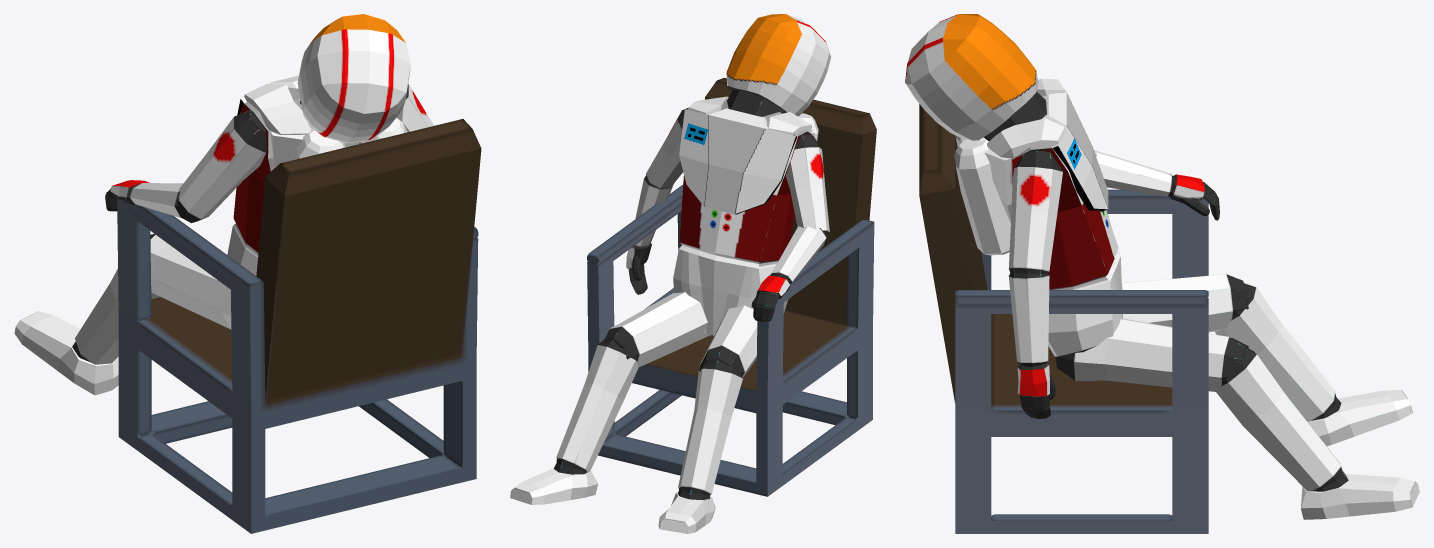
The model's file is Dead Spacesuit.obj.
3 views of the same model, side by side, from view 1: azimuth 30°, elevation 25°; view 2: azimuth 150°, elevation 25°; view 3: azimuth 270°, elevation 25° (orthographic). The views are drawn at different scales.
Visible parts, largest first — view 1: cuboid, Head, cylinder, Left Upper Leg, Left Upper Arm, Left Foot, Torso, Left Lower Leg, sphere, Left Lower Arm, Pelvis, Right Upper Arm; view 2: cuboid, cylinder, Head, Torso, Right Lower Leg, Pelvis, Left Lower Leg, Right Upper Leg, sphere, Left Upper Arm, Right Foot, Left Upper Leg (+7 smaller); view 3: cuboid, Head, cylinder, Right Lower Leg, Right Upper Leg, Torso, Left Lower Leg, Right Upper Arm, sphere, Right Foot, Left Foot, Pelvis (+6 smaller).
Boxes of the visible parts, x1,y1,x2,y2 form: cuboid: (117,119,481,533); Head: (297,14,410,143); cylinder: (237,75,407,169); Left Upper Leg: (150,234,231,329); Left Upper Arm: (178,117,265,219); Left Foot: (14,311,118,395); Torso: (233,87,309,252); Left Lower Leg: (75,269,160,364); sphere: (72,84,408,362); Left Lower Arm: (130,183,183,217); Pelvis: (227,223,258,290); Right Upper Arm: (402,84,433,131); cuboid: (587,78,876,496); cylinder: (679,96,818,214); Head: (726,14,830,116); Torso: (679,101,812,263); Right Lower Leg: (556,345,638,472); Pelvis: (673,245,787,335); Left Lower Leg: (678,368,742,495); Right Upper Leg: (608,292,710,367); sphere: (554,108,829,499); Left Upper Arm: (785,147,829,231); Right Foot: (510,468,597,504); Left Upper Leg: (700,305,757,377); cuboid: (919,104,1208,533); Head: (905,14,1038,140); cylinder: (954,78,1108,255); Right Lower Leg: (1216,354,1341,491); Right Upper Leg: (1074,318,1231,391); Torso: (1010,94,1118,289); Left Lower Leg: (1215,287,1335,421); Right Upper Arm: (1008,166,1062,271); sphere: (1009,150,1348,491); Right Foot: (1301,474,1419,519); Left Foot: (1307,390,1412,446); Pelvis: (1048,250,1122,356).
Bounding box in the file's own units: 0.394 × 0.6574 × 0.6652.
6 materials, 6 textured.
